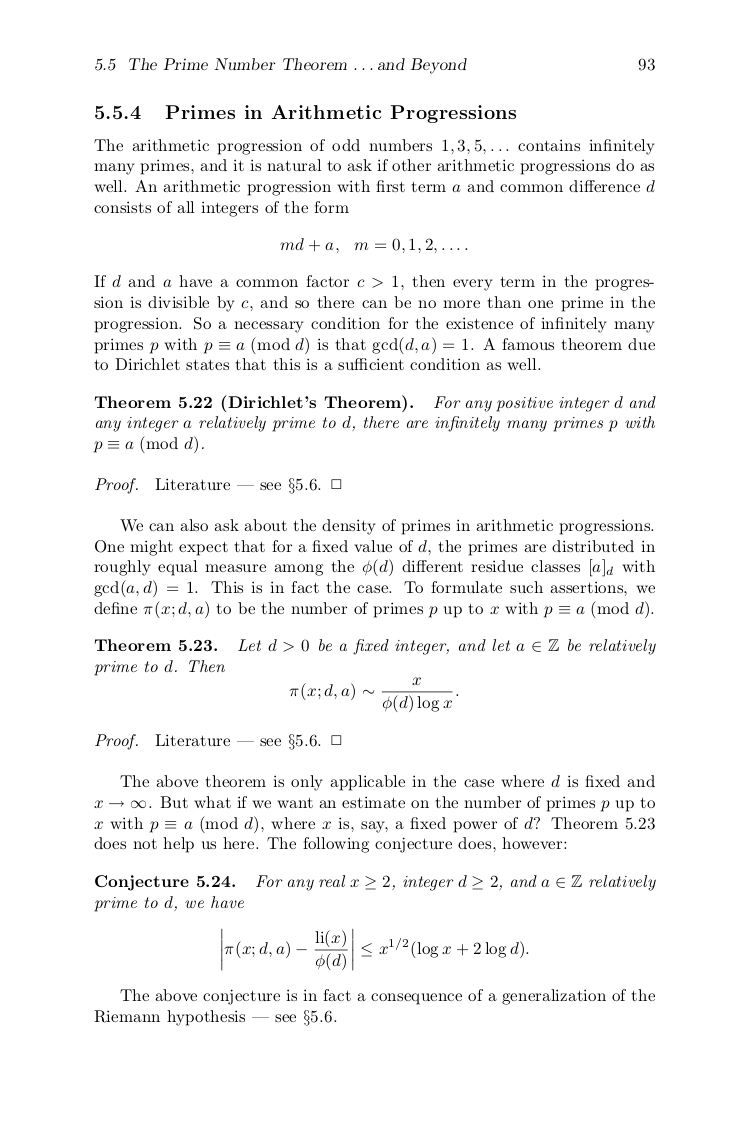formula: (221, 927, 528, 971), (289, 676, 458, 713), (280, 237, 467, 253)
